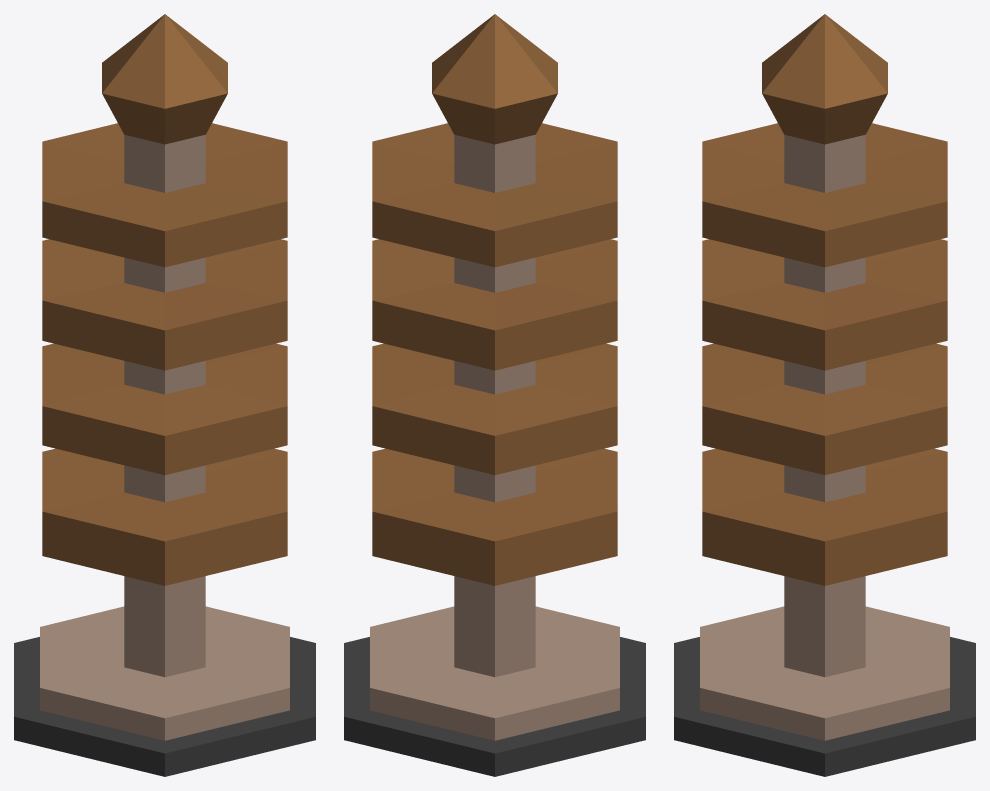
The model's file is F11_Sculp3.fbx.
3 renders of one model, left to right at view 1: azimuth 30°, elevation 25°; view 2: azimuth 150°, elevation 25°; view 3: azimuth 270°, elevation 25°, orthographic.
Visible parts, largest first — view 1: F11_Sculp3; view 2: F11_Sculp3; view 3: F11_Sculp3.
Boxes of the visible parts, box(x1,y1,x2,y2) form: F11_Sculp3: box(14, 14, 315, 776); F11_Sculp3: box(344, 14, 645, 776); F11_Sculp3: box(674, 14, 975, 776).
Size of the model in its own units: 3.1 by 6.76 by 2.68.
